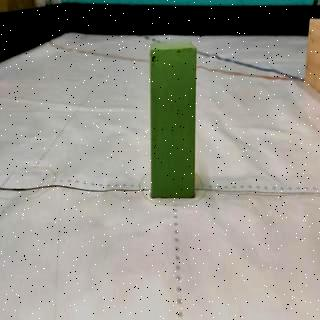greenbox: (150, 42, 197, 200)
